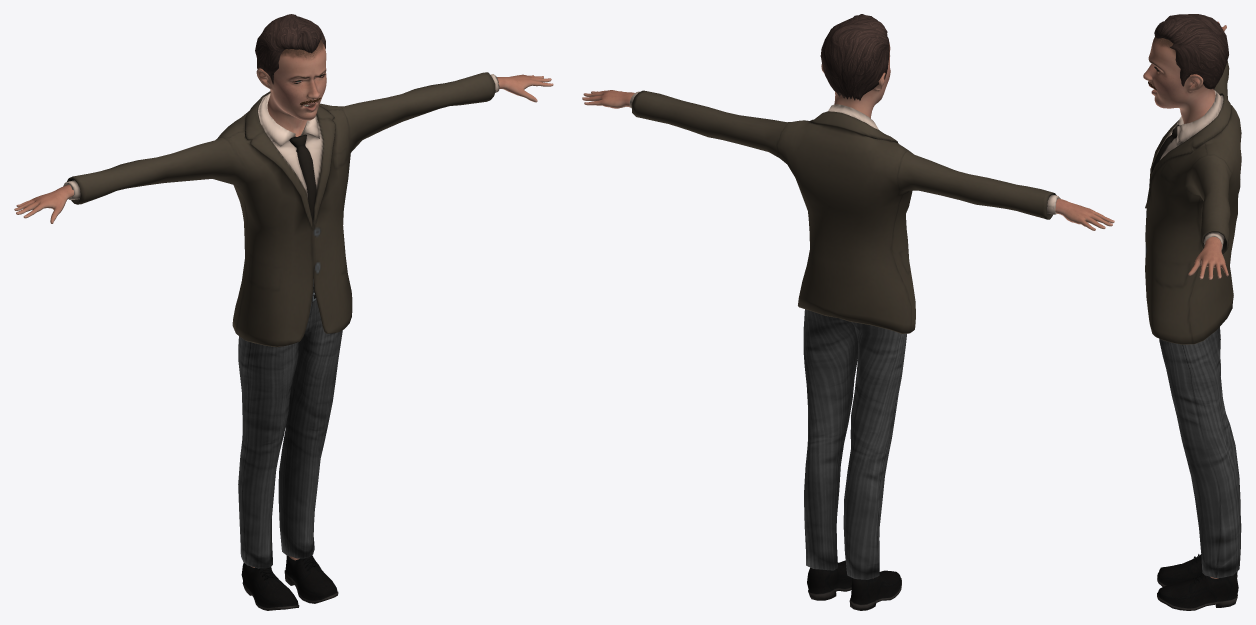
File: poe.obj
The picture shows the model from 3 angles, left to right: view 1: azimuth 30°, elevation 25°; view 2: azimuth 150°, elevation 25°; view 3: azimuth 270°, elevation 25°; orthographic projection.
Visible parts, largest first — view 1: Tops, Bottoms, Body, Shoes, Hair; view 2: Tops, Bottoms, Hair, Shoes, Body; view 3: Tops, Bottoms, Body, Hair, Shoes.
Part boxes in pixels (bbox=[...]): Tops: bbox=[63, 72, 499, 347]; Bottoms: bbox=[238, 279, 342, 568]; Body: bbox=[14, 39, 553, 567]; Shoes: bbox=[241, 555, 338, 610]; Hair: bbox=[255, 14, 325, 84]; Tops: bbox=[629, 90, 1060, 333]; Bottoms: bbox=[803, 309, 906, 579]; Hair: bbox=[820, 14, 889, 100]; Shoes: bbox=[807, 560, 901, 610]; Body: bbox=[582, 41, 1114, 230]; Tops: bbox=[1145, 61, 1241, 344]; Bottoms: bbox=[1159, 327, 1241, 577]; Body: bbox=[1143, 21, 1228, 578]; Hair: bbox=[1154, 14, 1228, 89]; Shoes: bbox=[1157, 554, 1238, 610].
Size of the model in its own units: 163 by 168 by 26.03.
1 material, 1 textured.
